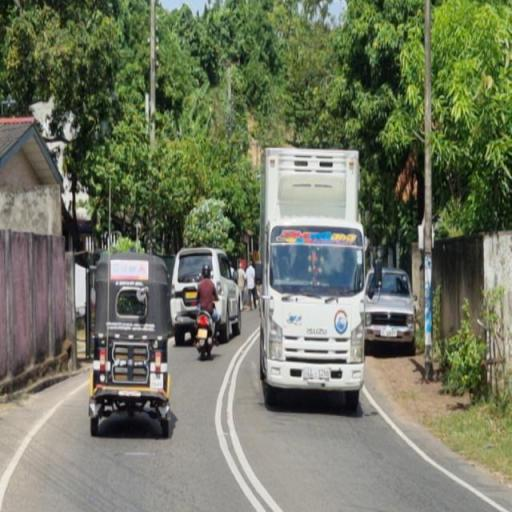double_white_line: (214, 325, 278, 512)
